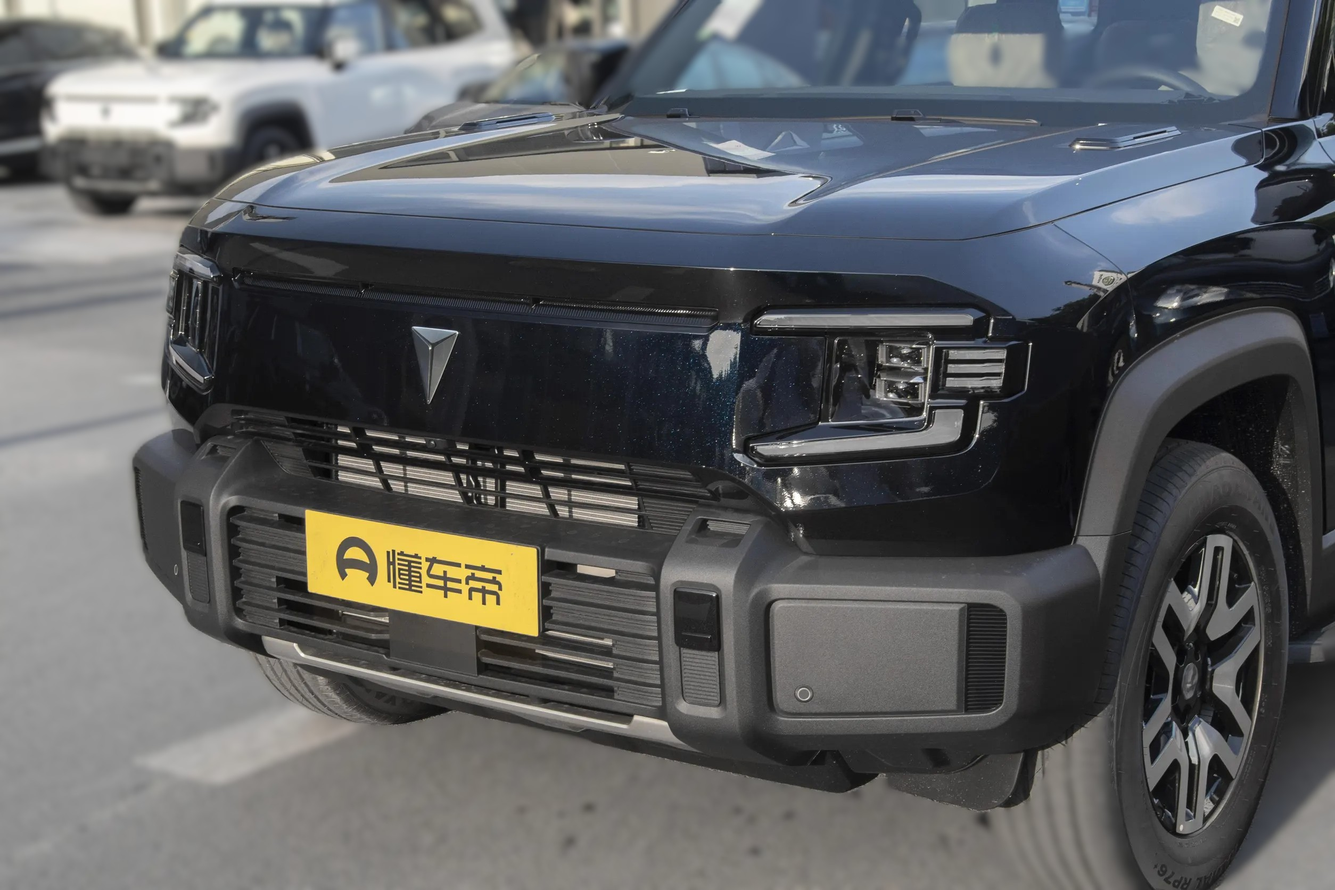Deepal: (411, 326, 458, 403)
